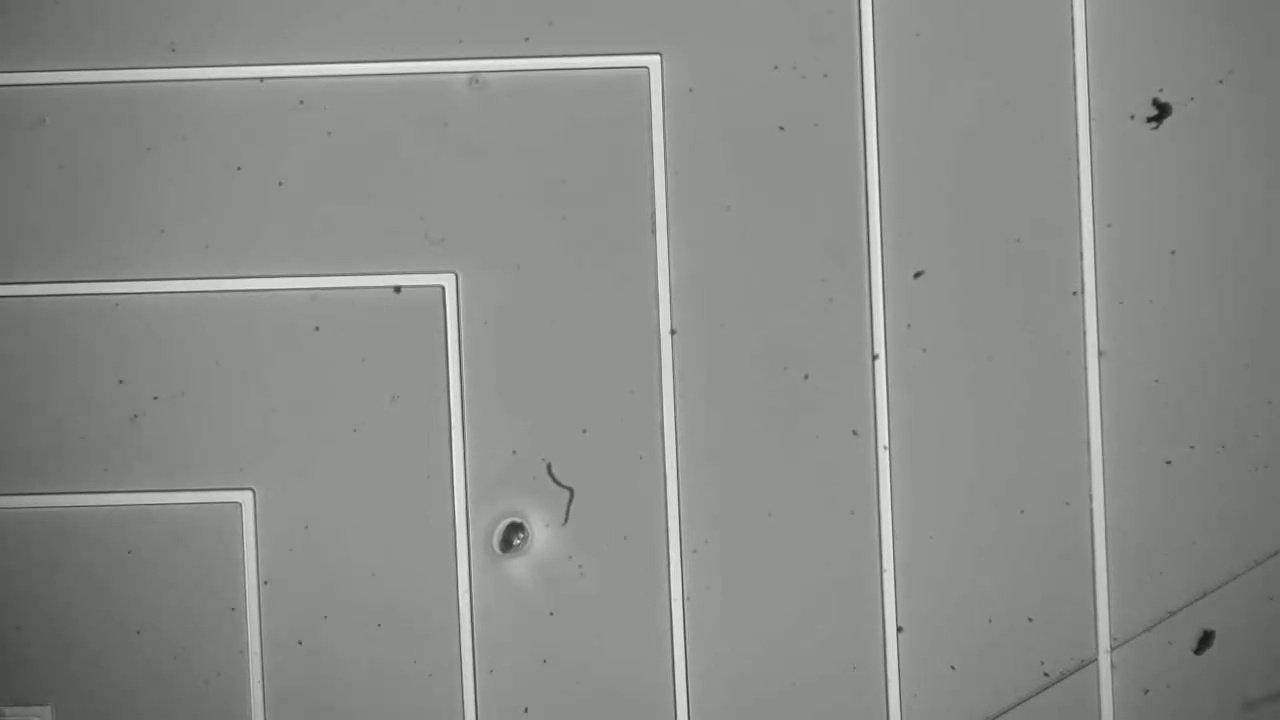scratch: (982, 541, 1269, 719)
